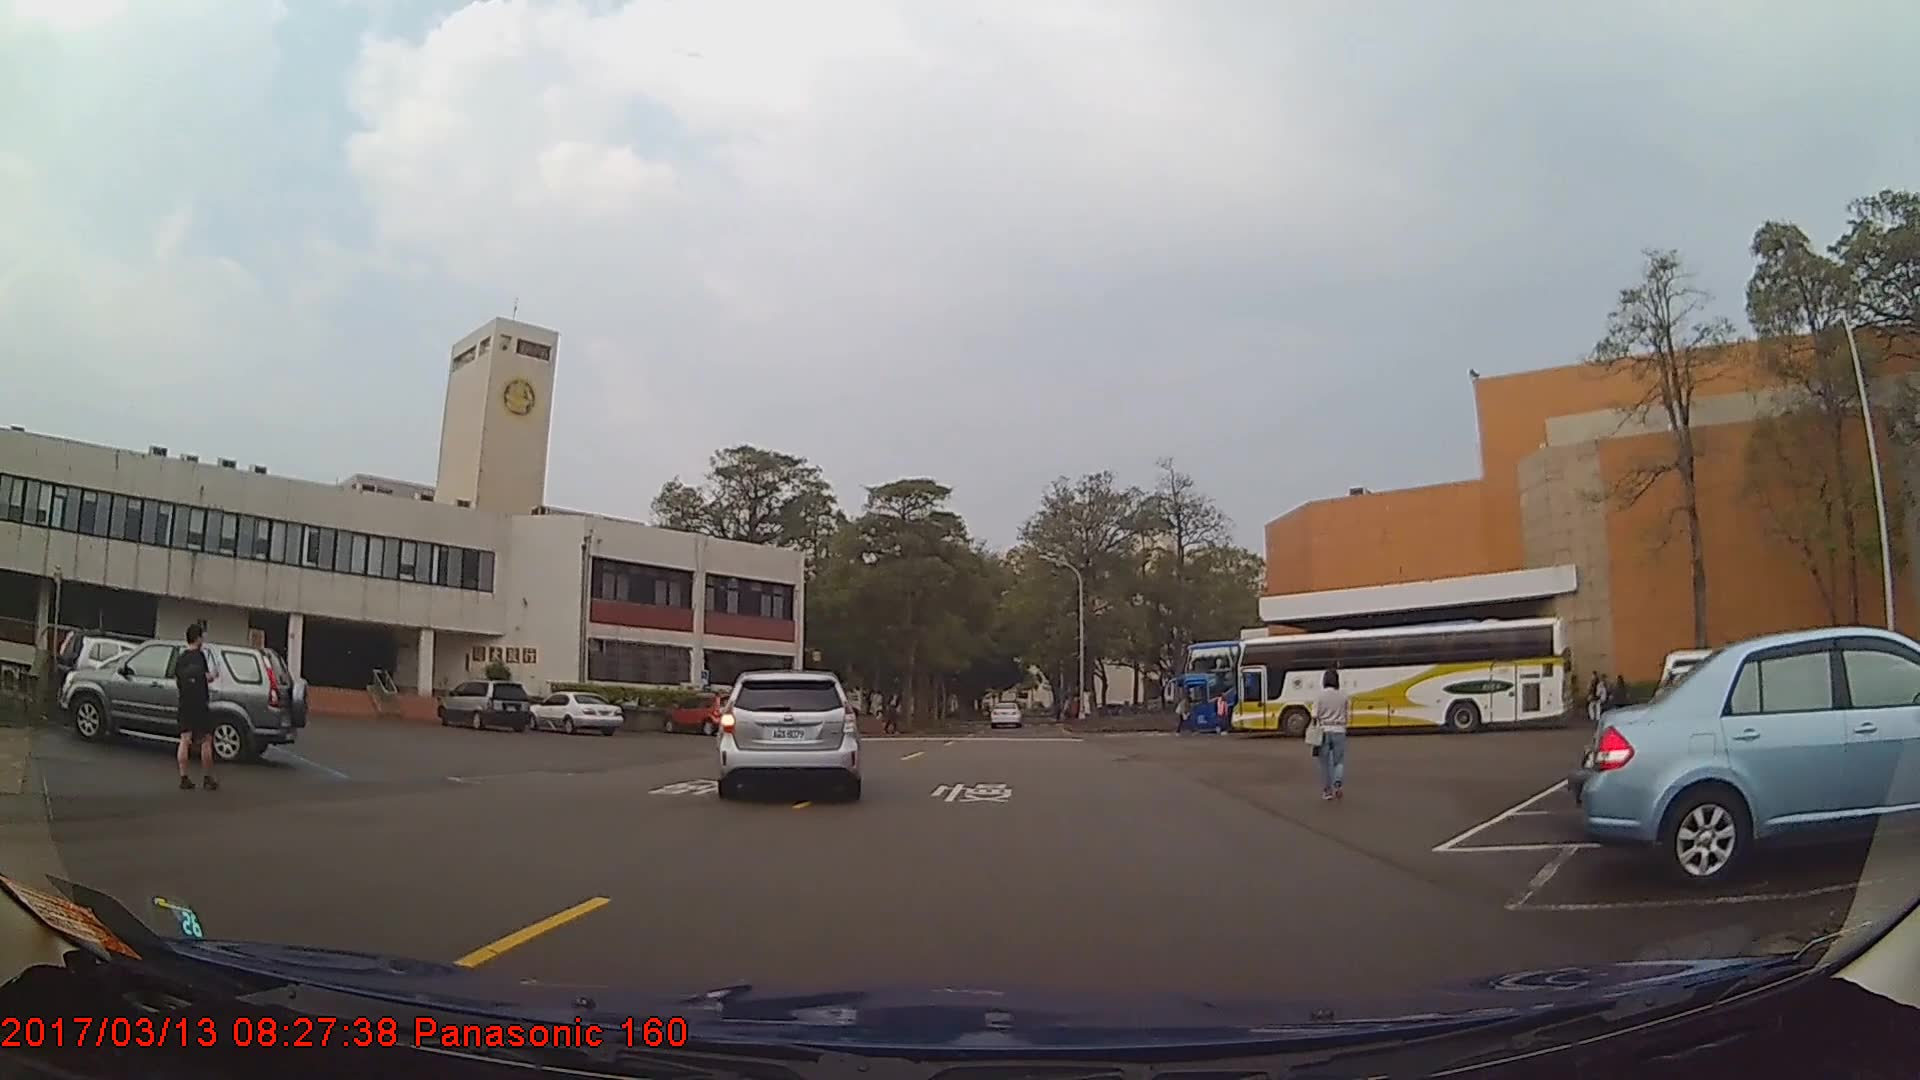pedestrian: (167, 623, 221, 791), (1304, 671, 1351, 802), (1601, 669, 1637, 723)
vehicle: (1579, 623, 1920, 888), (1228, 615, 1570, 741), (60, 638, 309, 765), (1175, 642, 1452, 735), (719, 668, 859, 799), (436, 680, 530, 734), (524, 692, 625, 737), (663, 692, 742, 735), (990, 702, 1022, 729)
